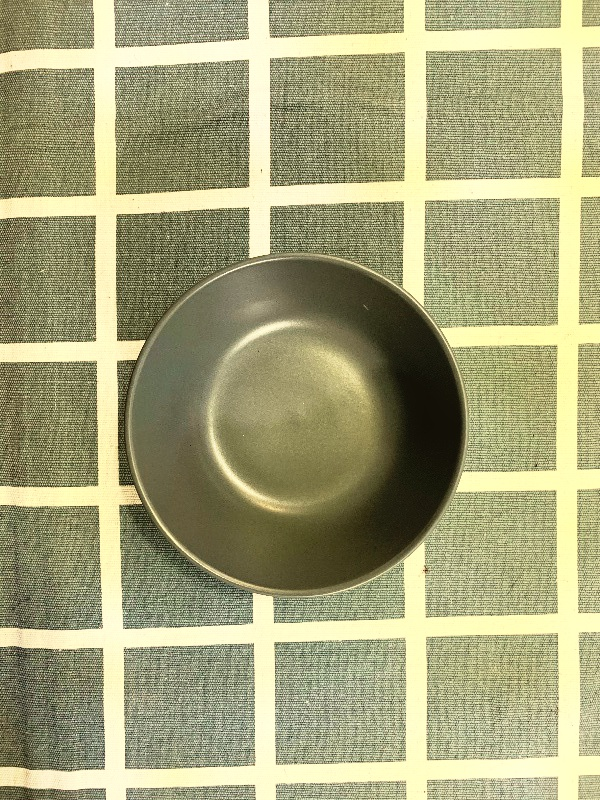bowl_big: (111, 243, 474, 620)
